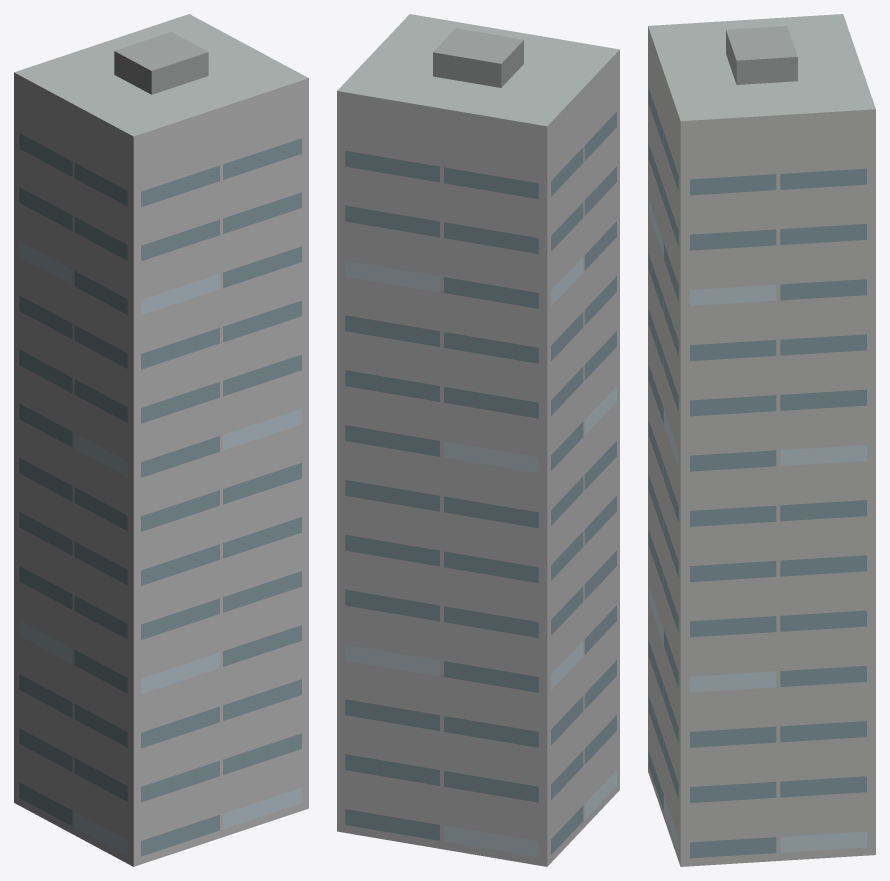
Rendered from fallback-gwanak-dream-town-130.glb.
The picture shows the model from 3 angles, left to right: view 1: azimuth 30°, elevation 25°; view 2: azimuth 150°, elevation 25°; view 3: azimuth 270°, elevation 25°; orthographic projection. The views are drawn at different scales.
Parts seen in each view (by area): view 1: fallback-gwanak-dream-town-130; view 2: fallback-gwanak-dream-town-130; view 3: fallback-gwanak-dream-town-130.
Boxes of the visible parts, left/top/right/bottom form: fallback-gwanak-dream-town-130: left=14, top=14, right=308, bottom=866; fallback-gwanak-dream-town-130: left=337, top=14, right=619, bottom=866; fallback-gwanak-dream-town-130: left=648, top=14, right=875, bottom=866.
Bounding box in the file's own units: 22.7 × 76 × 20.39.
